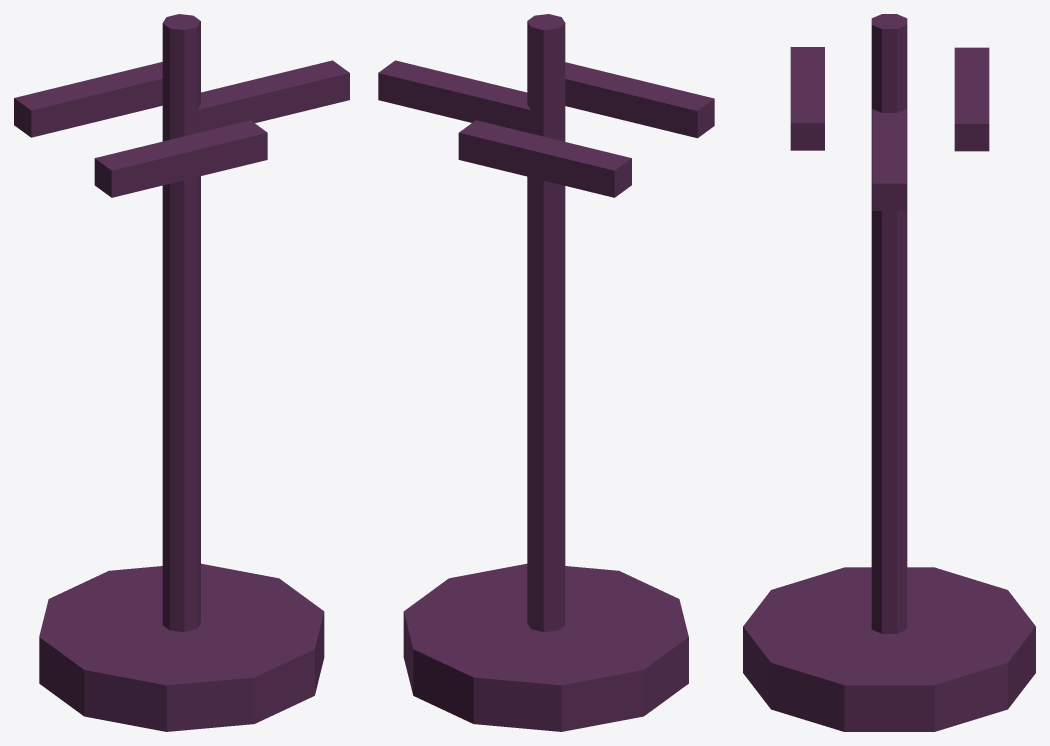
File: coat-rack.obj
3 renders of one model, left to right at view 1: azimuth 30°, elevation 25°; view 2: azimuth 150°, elevation 25°; view 3: azimuth 270°, elevation 25°, orthographic.
Parts seen in each view (by area): view 1: coat-rack-base, coat-rack-pole, coat-hook-2, coat-hook-3, coat-hook-1; view 2: coat-rack-base, coat-rack-pole, coat-hook-3, coat-hook-2, coat-hook-1; view 3: coat-rack-base, coat-rack-pole, coat-hook-3, coat-hook-2, coat-hook-1.
Part boxes in pixels (bbox=[...]): coat-rack-base: bbox=[39, 563, 324, 731]; coat-rack-pole: bbox=[162, 14, 200, 632]; coat-hook-2: bbox=[94, 120, 267, 197]; coat-hook-3: bbox=[14, 62, 162, 137]; coat-hook-1: bbox=[197, 60, 349, 132]; coat-rack-base: bbox=[403, 563, 688, 731]; coat-rack-pole: bbox=[527, 14, 565, 631]; coat-hook-3: bbox=[458, 120, 631, 197]; coat-hook-2: bbox=[565, 62, 714, 138]; coat-hook-1: bbox=[378, 60, 530, 133]; coat-rack-base: bbox=[743, 567, 1035, 731]; coat-rack-pole: bbox=[871, 14, 907, 633]; coat-hook-3: bbox=[954, 47, 989, 151]; coat-hook-2: bbox=[790, 47, 824, 150]; coat-hook-1: bbox=[872, 109, 906, 210].
Size of the model in its own units: 0.7534 by 1.67 by 0.68.
